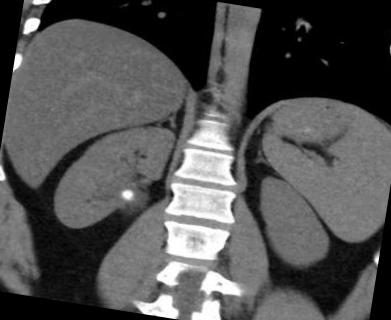Tas_Var: (116, 185, 138, 202)
